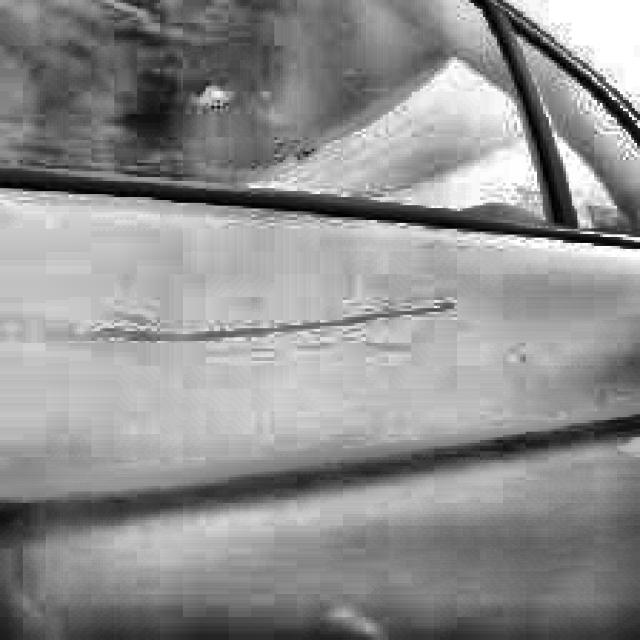door_scratch: (83, 282, 460, 353)
